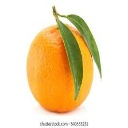orange: (26, 3, 102, 116)
